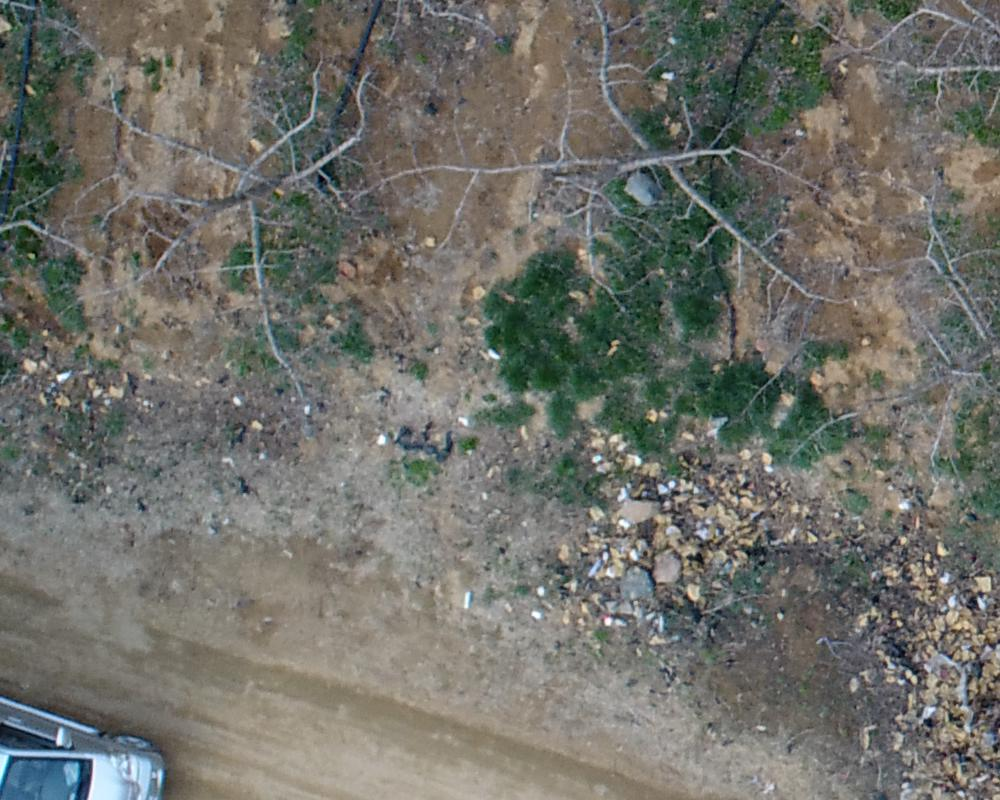apple: (63, 48, 423, 402), (431, 10, 832, 324), (817, 125, 990, 554)
